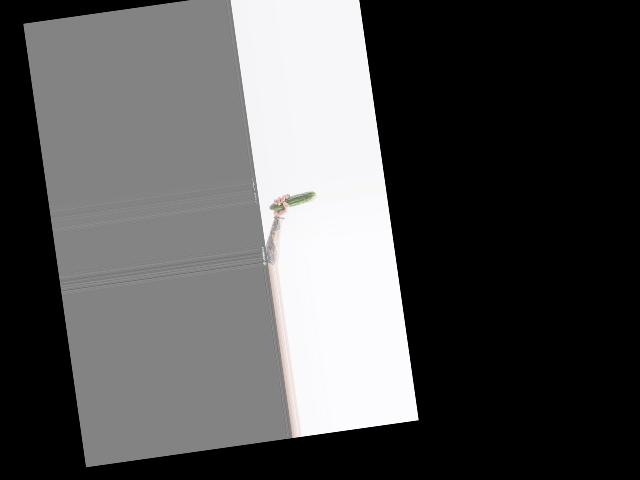cucumber: (268, 190, 317, 211)
